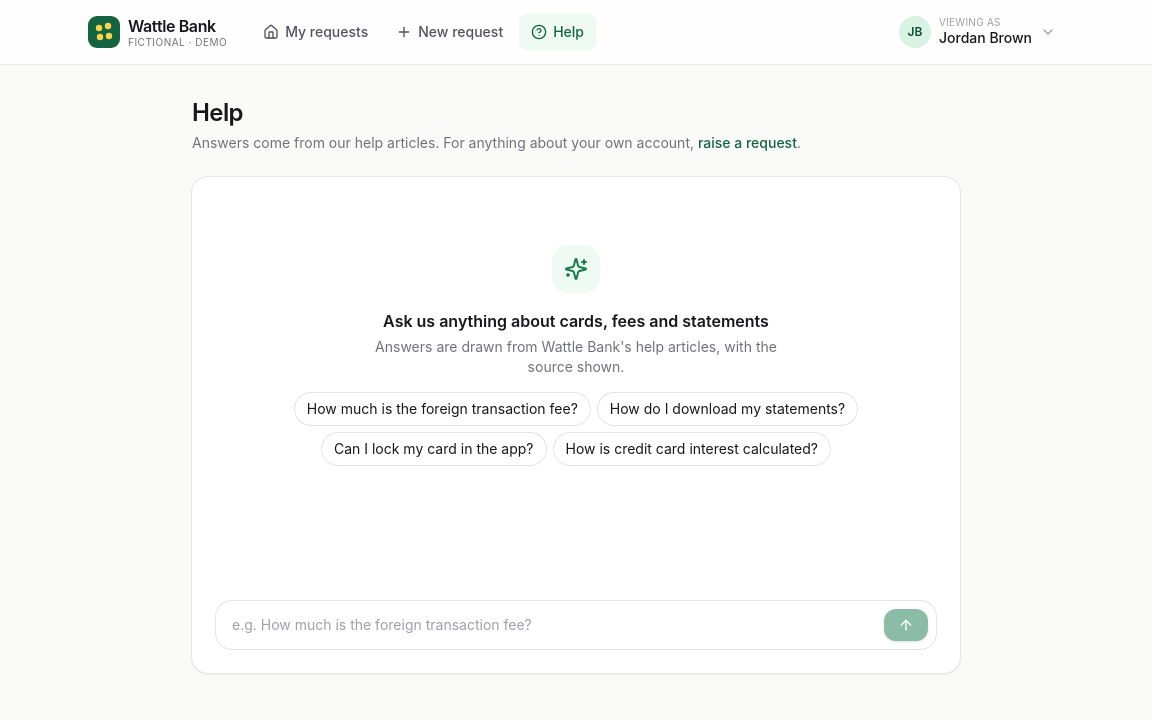
Test case: app › customer help assistant streams an answer
Click the button "How much is the foreign transaction fee?". click: (442, 409)
box: [295,393,590,425]
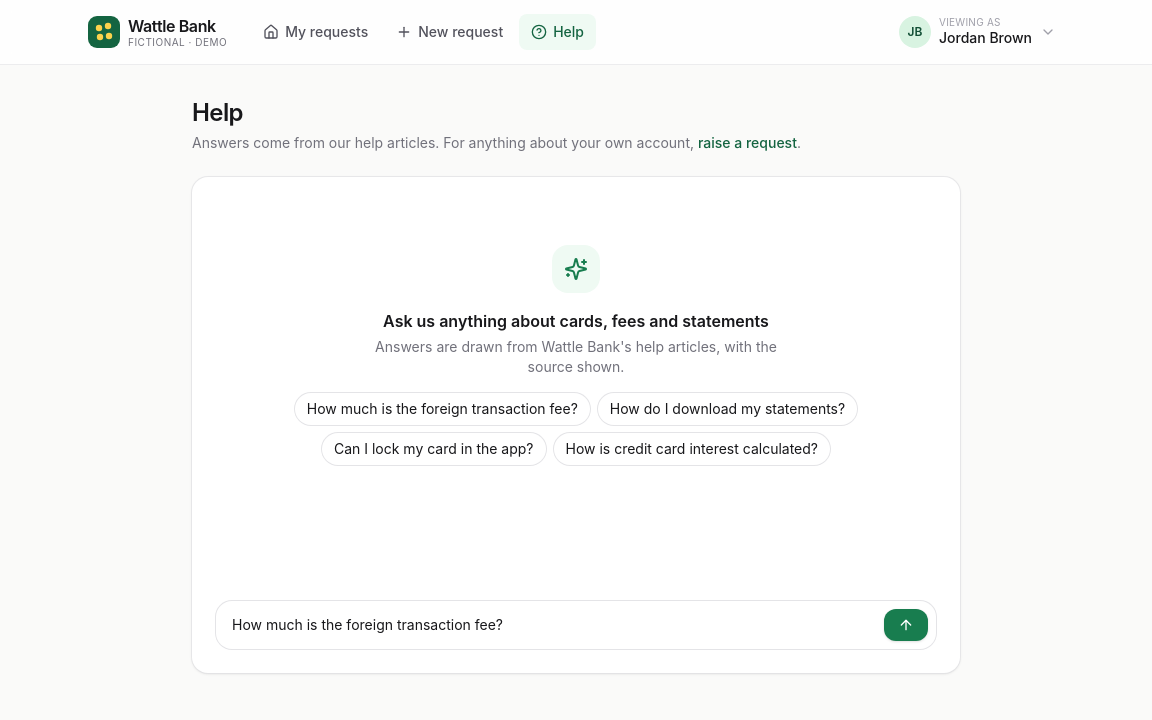
Submit the form, box [216,601,936,649]
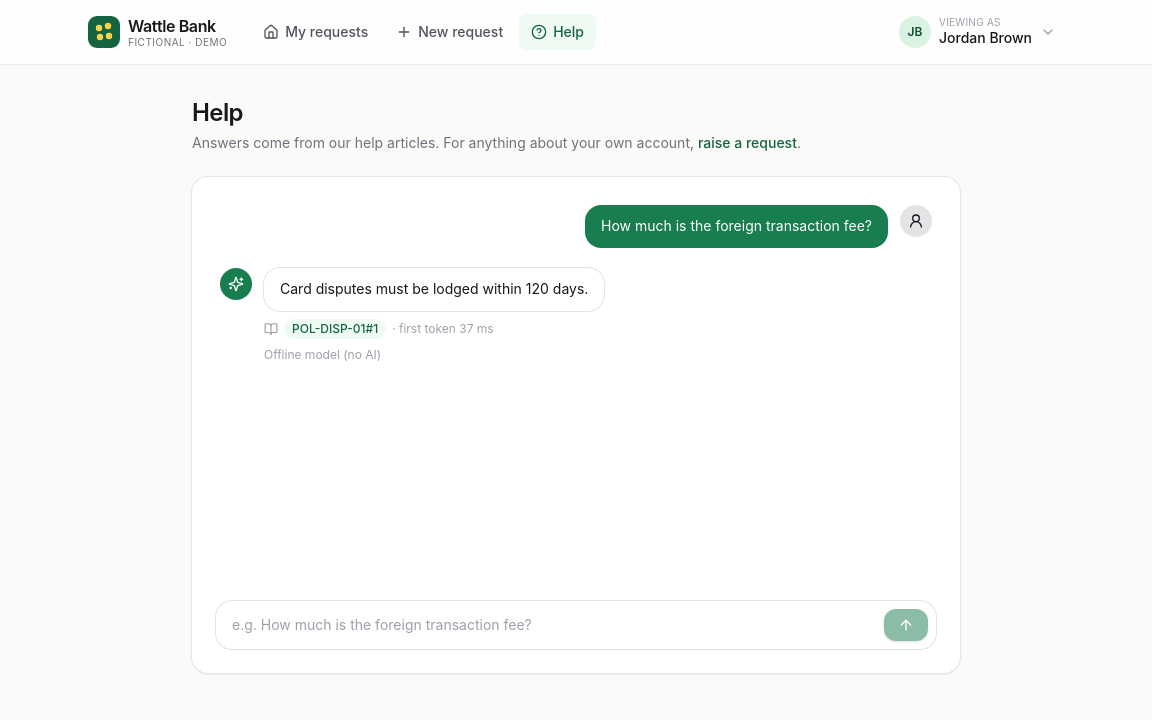
Check: the text "POL-DISP-01#1" is shown, box [284,318,386,338]
